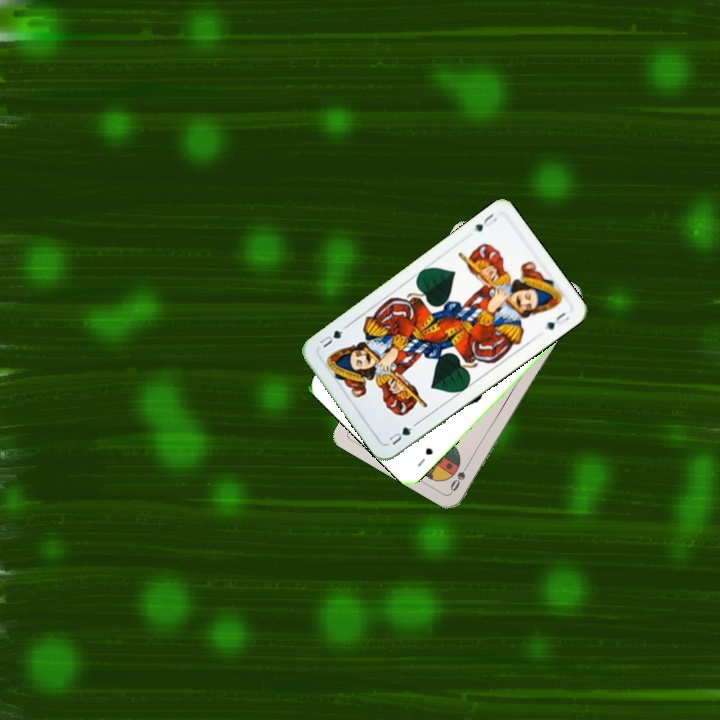GU: (384, 419, 420, 448), (469, 209, 500, 236), (413, 444, 436, 469)
SO: (446, 458, 473, 495)
